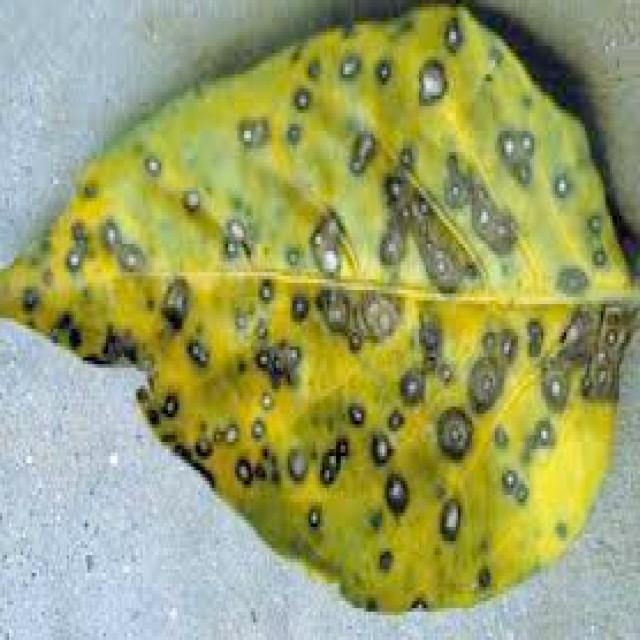Bercak Daun Serkospora: (2, 4, 640, 618)
